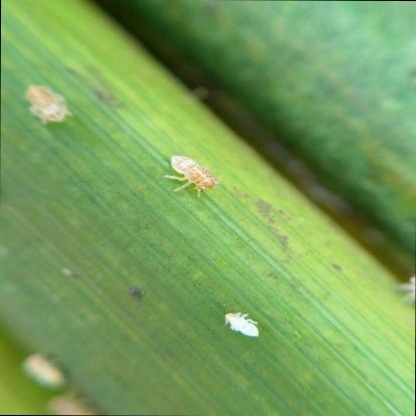Brown_hopper: (146, 144, 234, 202), (1, 70, 79, 130), (213, 304, 279, 350)
